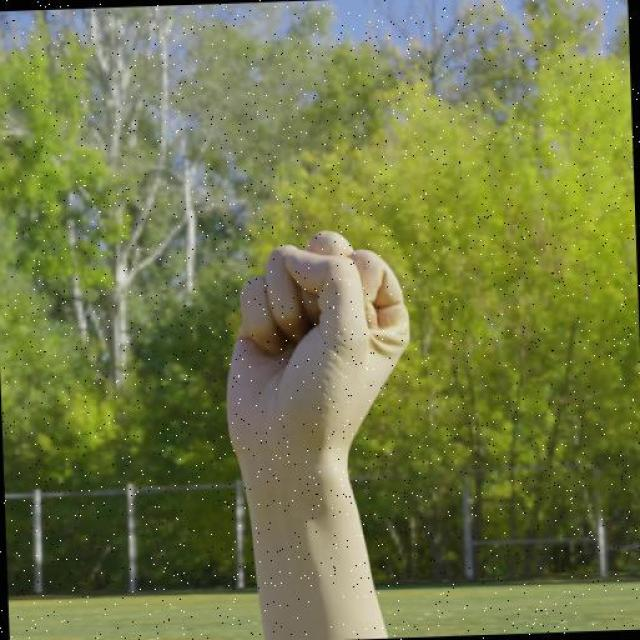S: (216, 224, 422, 494)
